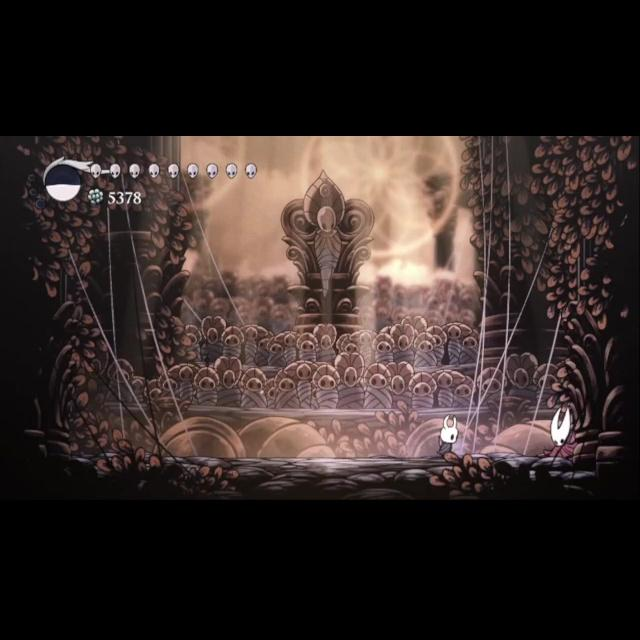EnemyLeadIn: (536, 405, 590, 465)
Player: (428, 414, 466, 458)
